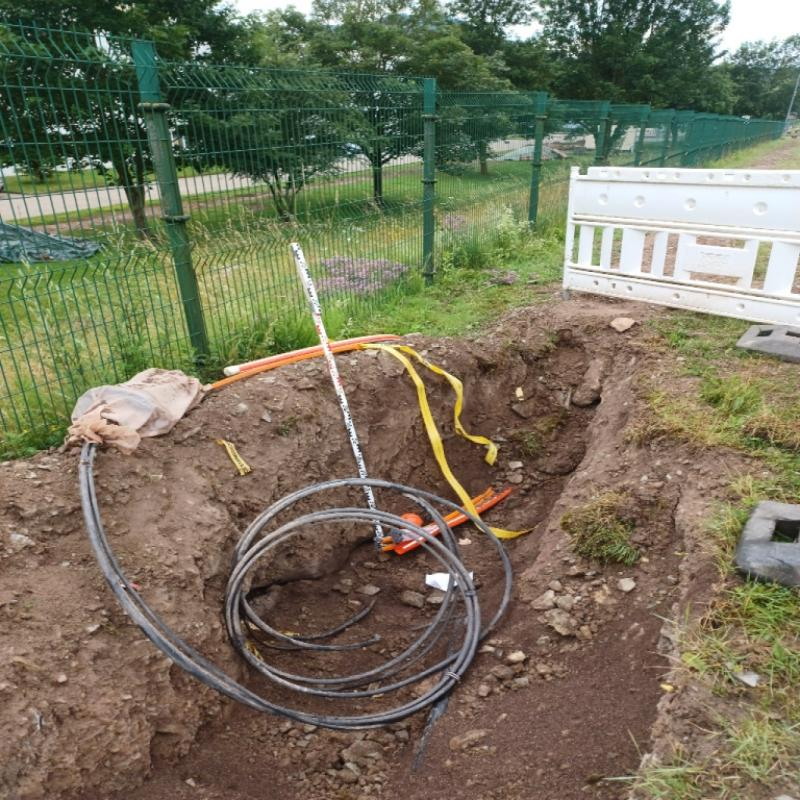Kugelmarker: (401, 513, 422, 526)
NT-Muffen: (60, 368, 201, 454)
Orang-Speednetrohrchen: (385, 488, 511, 552)
